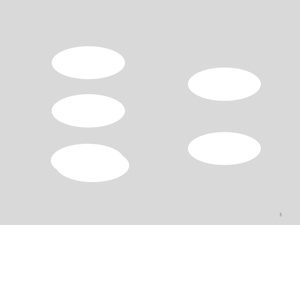round: (47, 140, 132, 183), (46, 41, 129, 81), (184, 63, 264, 103), (49, 91, 128, 131), (185, 129, 262, 168)
